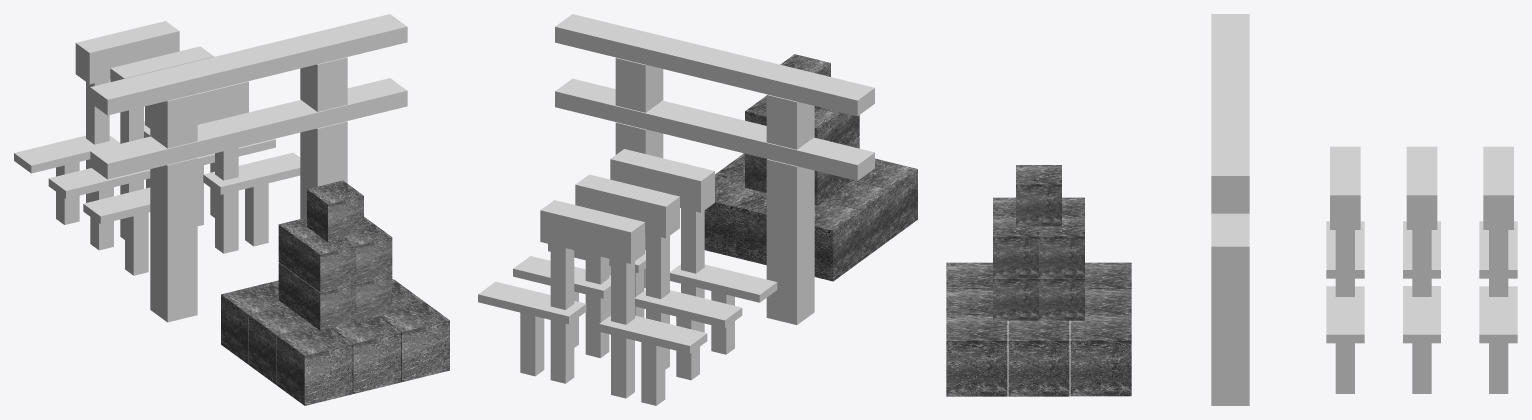
The picture shows the model from 3 angles, left to right: view 1: azimuth 30°, elevation 25°; view 2: azimuth 150°, elevation 25°; view 3: azimuth 270°, elevation 25°; orthographic projection. The views are drawn at different scales.
Parts seen in each view (by area): view 1: Cube.023, Cube.019, Cube.021, Cube.006, Cube.050, Cube.007, Cube.008, Cube.018, Cube.017, Cube.013, Cube.005, Cube.004 (+24 smaller); view 2: Cube.023, Cube.019, Cube.021, Cube.050, Cube.049, Cube.048, Cube.005, Cube.004, Cube.006, Cube.002, Cube.030, Cube.035 (+26 smaller); view 3: Cube.023, Cube.018, Cube.002, Cube.007, Cube.003, Cube.017, Cube.049, Cube.014, Cube.016, Cube.048, Cube.050, Cube.031 (+19 smaller).
Boxes of the visible parts, x1,y1,x2,y2 form: Cube.023: (90, 14, 407, 115); Cube.019: (90, 78, 407, 179); Cube.021: (150, 158, 197, 322); Cube.006: (277, 326, 352, 405); Cube.050: (75, 21, 179, 84); Cube.007: (380, 300, 449, 381); Cube.008: (331, 316, 401, 393); Cube.018: (300, 121, 347, 218); Cube.017: (307, 180, 363, 241); Cube.013: (299, 235, 356, 292); Cube.005: (221, 282, 285, 364); Cube.004: (249, 306, 313, 385); Cube.023: (555, 14, 874, 116); Cube.019: (555, 78, 874, 180); Cube.021: (766, 159, 814, 324); Cube.050: (540, 200, 644, 263); Cube.049: (575, 174, 679, 238); Cube.048: (610, 149, 714, 212); Cube.005: (814, 201, 861, 281); Cube.004: (824, 180, 889, 260); Cube.006: (852, 158, 917, 239); Cube.002: (704, 175, 757, 257); Cube.030: (599, 315, 707, 353); Cube.035: (670, 264, 777, 302); Cube.023: (1211, 14, 1249, 193); Cube.018: (1211, 264, 1249, 405); Cube.002: (1070, 314, 1131, 396); Cube.007: (946, 315, 1007, 396); Cube.003: (1008, 320, 1069, 396); Cube.017: (1016, 165, 1061, 226); Cube.049: (1406, 146, 1437, 229); Cube.014: (993, 217, 1038, 278); Cube.016: (1039, 217, 1084, 278); Cube.048: (1330, 146, 1360, 229); Cube.050: (1483, 146, 1513, 229); Cube.031: (1479, 286, 1517, 343).
Size of the model in its own units: 5 by 3.78 by 7.46.
1 material, 1 textured.
